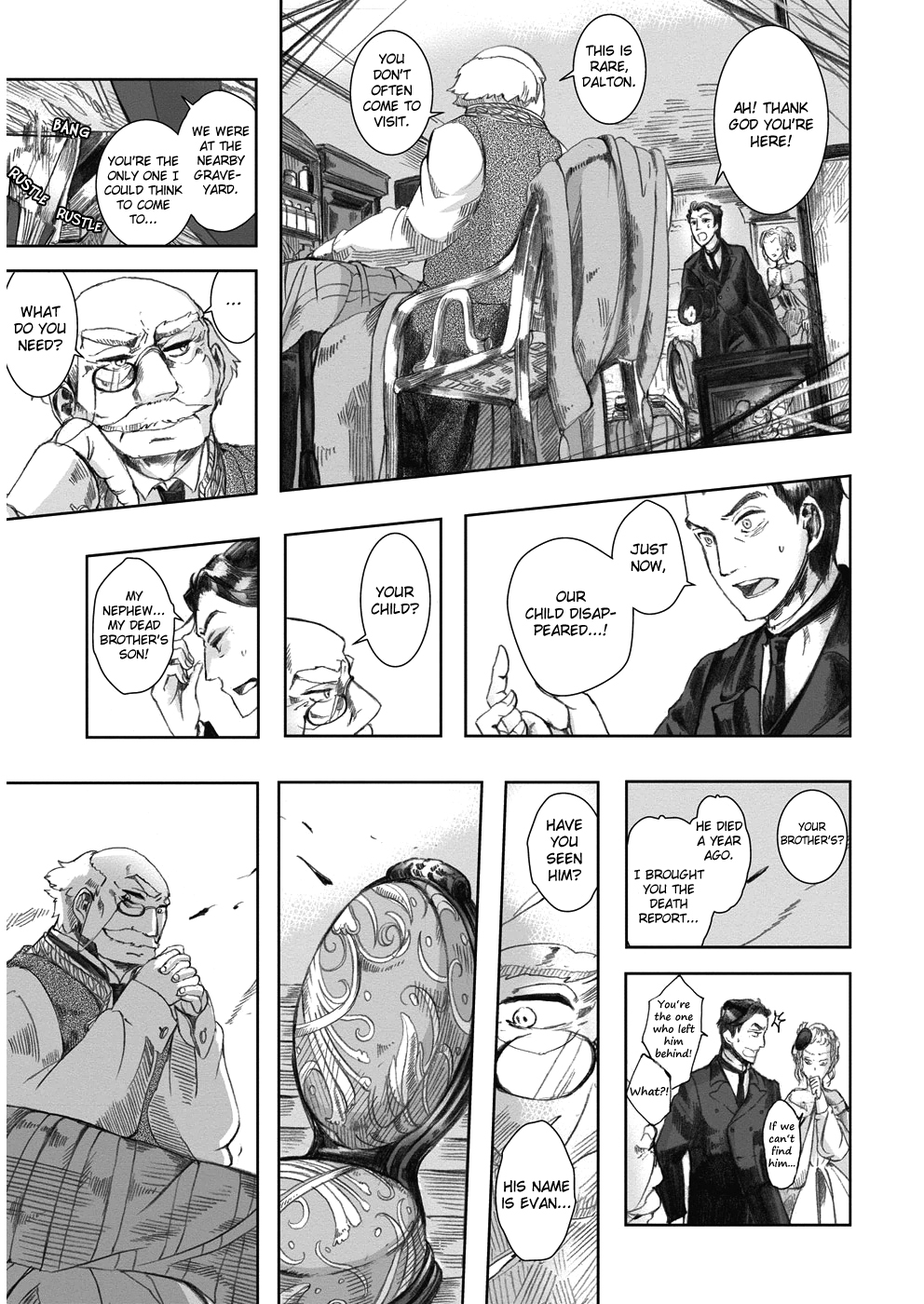bubble: (713, 24, 829, 216), (507, 538, 634, 696), (626, 795, 752, 948), (93, 557, 183, 696), (96, 119, 191, 246), (351, 30, 443, 157), (496, 1120, 576, 1261), (179, 90, 257, 231), (353, 533, 430, 667), (6, 270, 83, 397), (559, 14, 646, 125), (613, 500, 696, 616), (527, 793, 599, 912), (642, 975, 707, 1090), (777, 790, 847, 884), (205, 270, 257, 343), (762, 1099, 803, 1189), (625, 1054, 672, 1126)
